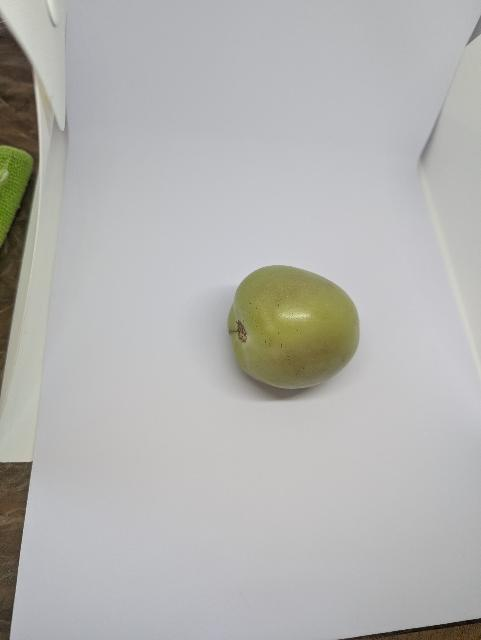green: (218, 263, 376, 409)
